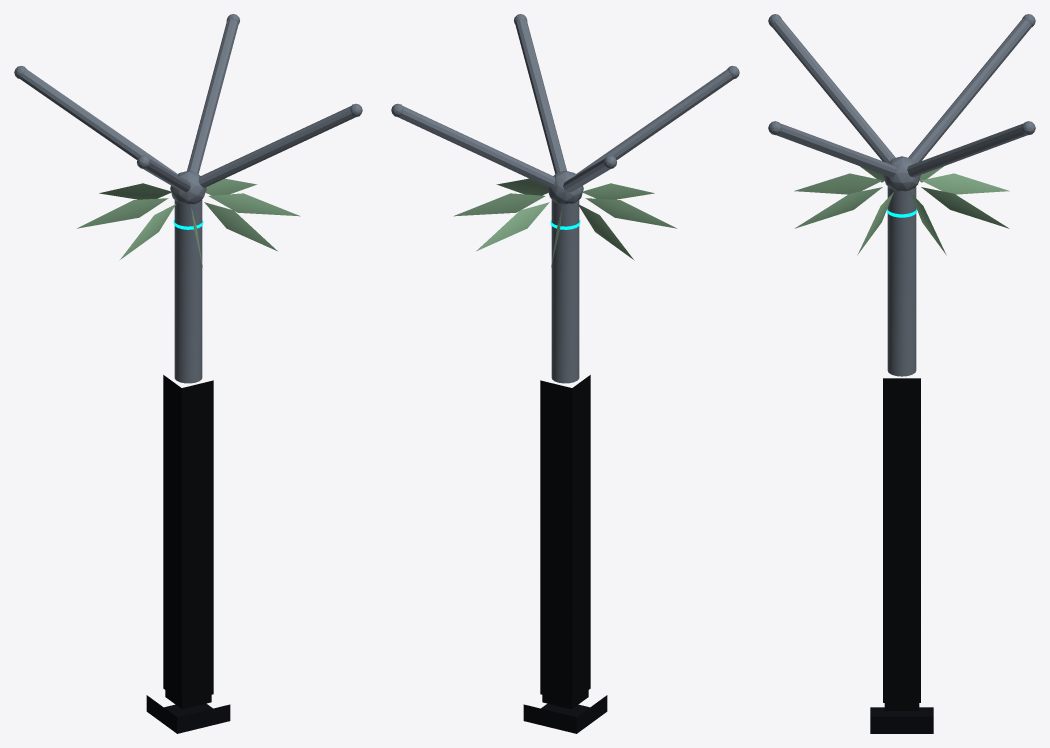
3 renders of one model, left to right at view 1: azimuth 30°, elevation 25°; view 2: azimuth 150°, elevation 25°; view 3: azimuth 270°, elevation 25°, orthographic. The views are drawn at different scales.
Visible parts, largest first — view 1: Trunk_Clad, Tree_Steel, Leaf_Capital, Pedestal_Concrete; view 2: Trunk_Clad, Tree_Steel, Leaf_Capital, Pedestal_Concrete; view 3: Tree_Steel, Trunk_Clad, Leaf_Capital, Pedestal_Concrete.
Boxes of the visible parts, <box> form: Trunk_Clad: <box>163,375,213,701</box>; Tree_Steel: <box>14,14,362,383</box>; Leaf_Capital: <box>77,178,300,267</box>; Pedestal_Concrete: <box>146,695,230,733</box>; Trunk_Clad: <box>540,375,590,701</box>; Tree_Steel: <box>391,14,739,383</box>; Leaf_Capital: <box>453,178,676,267</box>; Pedestal_Concrete: <box>523,695,607,733</box>; Tree_Steel: <box>768,14,1035,376</box>; Trunk_Clad: <box>883,378,920,702</box>; Leaf_Capital: <box>794,166,1009,255</box>; Pedestal_Concrete: <box>870,707,933,733</box>.
Size of the model in its own units: 8.45 by 22.73 by 8.45.
Materials: 5 (3 with a texture image).
